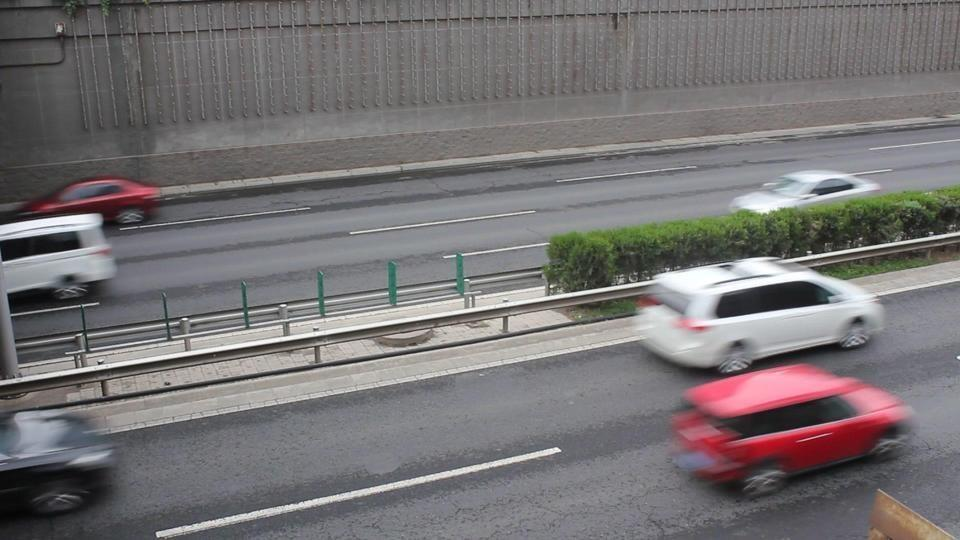car: (667, 362, 912, 496), (634, 255, 888, 374), (0, 404, 122, 518), (0, 211, 118, 304), (6, 177, 163, 228), (728, 170, 884, 217)
